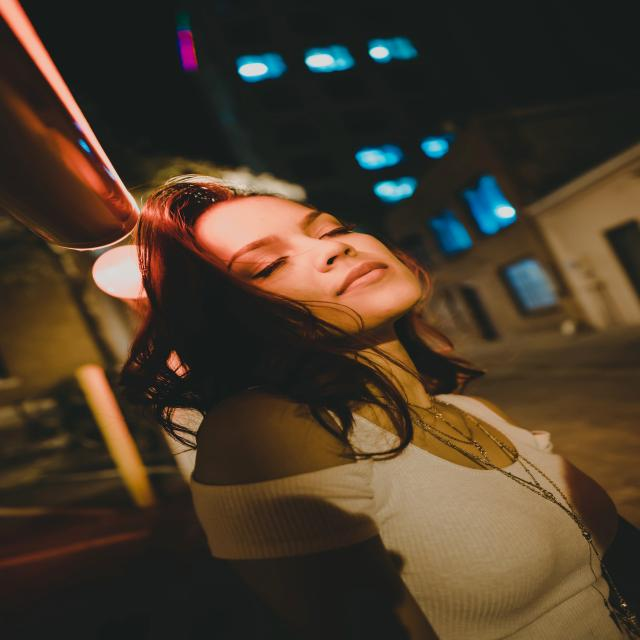adult: (144, 188, 640, 640)
